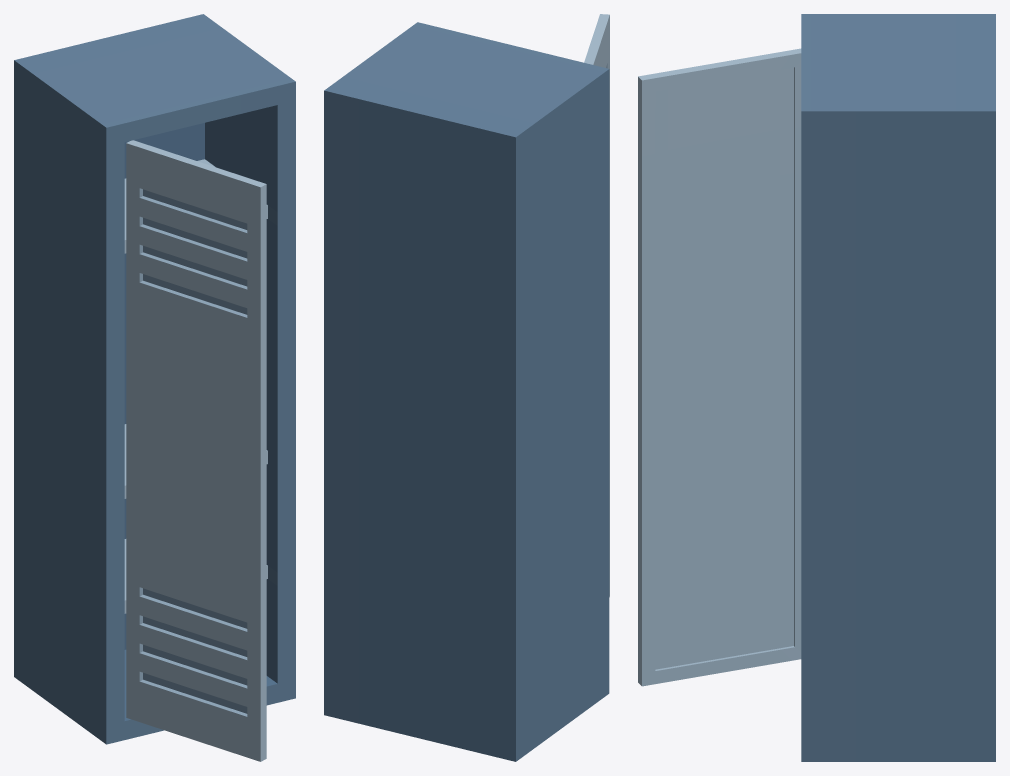
The model's file is close_open.fbx.
3 renders of one model, left to right at view 1: azimuth 30°, elevation 25°; view 2: azimuth 150°, elevation 25°; view 3: azimuth 270°, elevation 25°, orthographic. The views are drawn at different scales.
Visible parts, largest first — view 1: close_open; view 2: close_open; view 3: close_open.
Part boxes in pixels (left/top/right/bottom): close_open: left=14, top=14, right=295, bottom=761; close_open: left=324, top=14, right=609, bottom=761; close_open: left=638, top=14, right=995, bottom=761.
Size of the model in its own units: 35.2 by 110 by 54.61.
